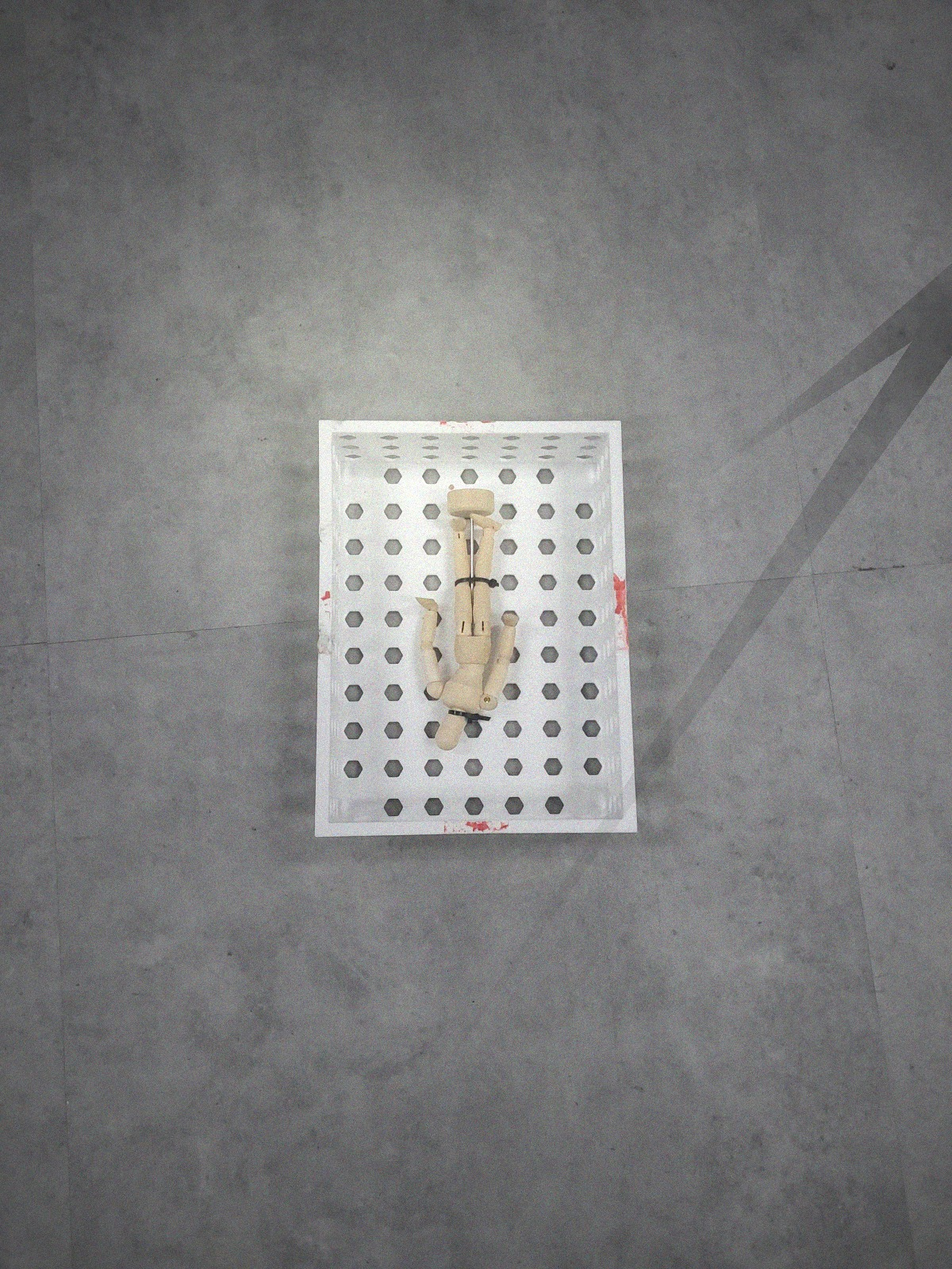basket: (310, 411, 643, 848)
mannequin: (409, 485, 522, 754)
